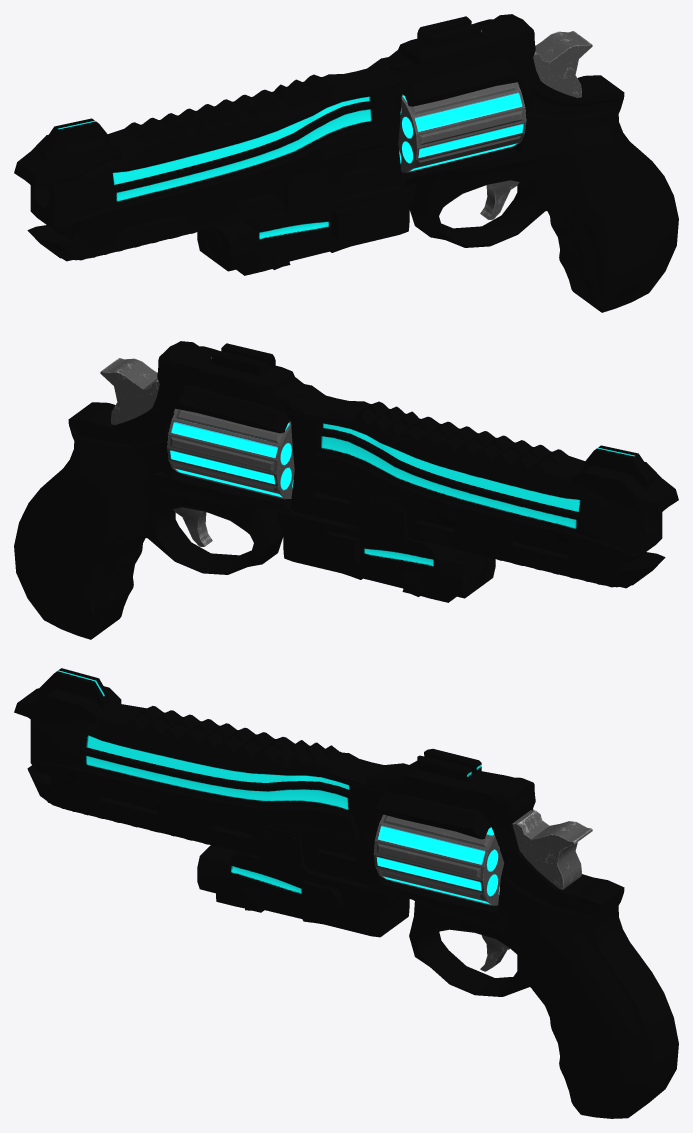
Rendered from small_gun.glb.
The picture shows the model from 3 angles, top to bottom: view 1: azimuth 30°, elevation 25°; view 2: azimuth 150°, elevation 25°; view 3: azimuth 330°, elevation 25°; orthographic projection.
Visible parts, largest first — view 1: Cylinder003_Main Gun_0, Object_thing_0, Object002_Hammer_0, Object004_trigger_0; view 2: Cylinder003_Main Gun_0, Object_thing_0, Object002_Hammer_0, Object004_trigger_0; view 3: Cylinder003_Main Gun_0, Object_thing_0, Object002_Hammer_0.
Part boxes in pixels (left/top/right/bottom): Cylinder003_Main Gun_0: left=14, top=14, right=678, bottom=312; Object_thing_0: left=398, top=82, right=526, bottom=172; Object002_Hammer_0: left=517, top=31, right=592, bottom=97; Object004_trigger_0: left=480, top=180, right=519, bottom=219; Cylinder003_Main Gun_0: left=14, top=341, right=678, bottom=639; Object_thing_0: left=167, top=409, right=294, bottom=499; Object002_Hammer_0: left=100, top=358, right=175, bottom=424; Object004_trigger_0: left=173, top=507, right=212, bottom=546; Cylinder003_Main Gun_0: left=14, top=668, right=678, bottom=1118; Object_thing_0: left=373, top=814, right=504, bottom=905; Object002_Hammer_0: left=512, top=810, right=592, bottom=889.
Bounding box in the file's own units: 207 × 96.18 × 24.46.
4 materials, 4 textured.
